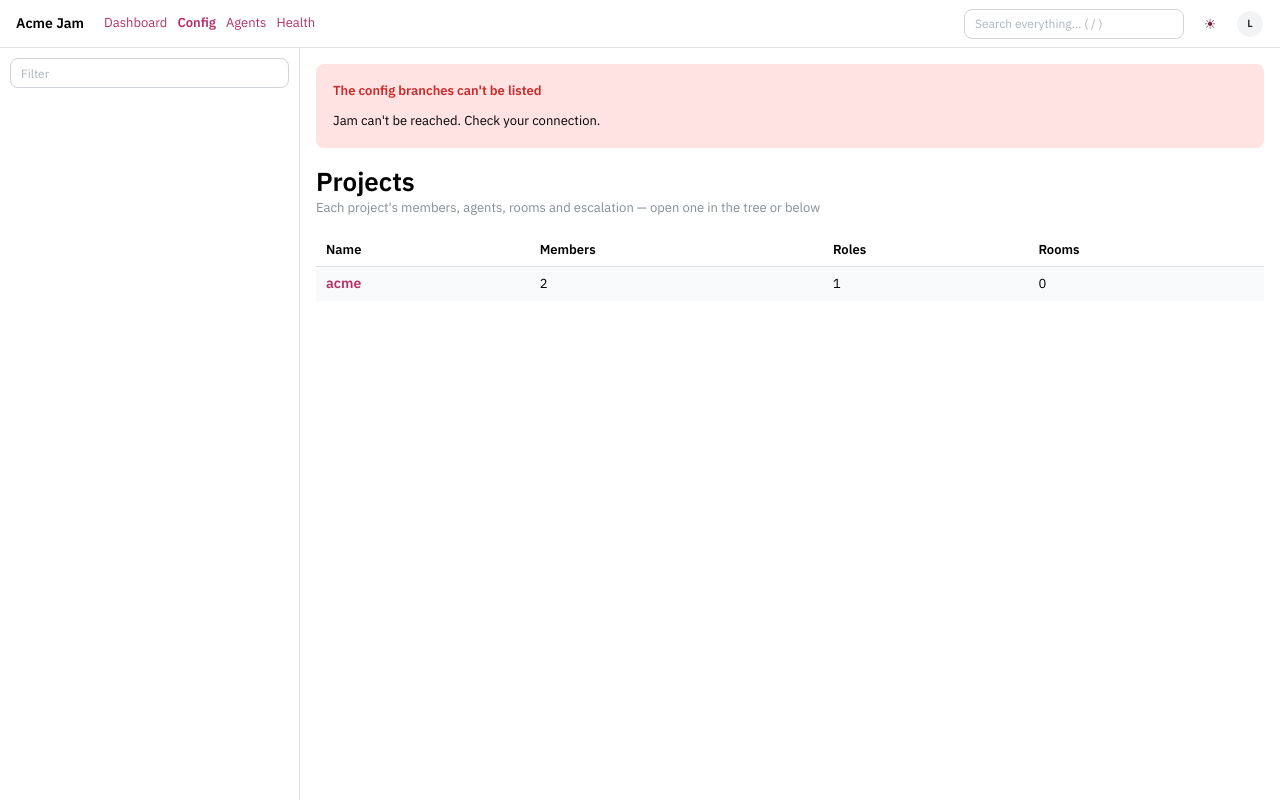
Test: outside a branch › the list offers no New project, and the overview no edits
Click the link "acme" at (344, 283), box [326,274,361,292]
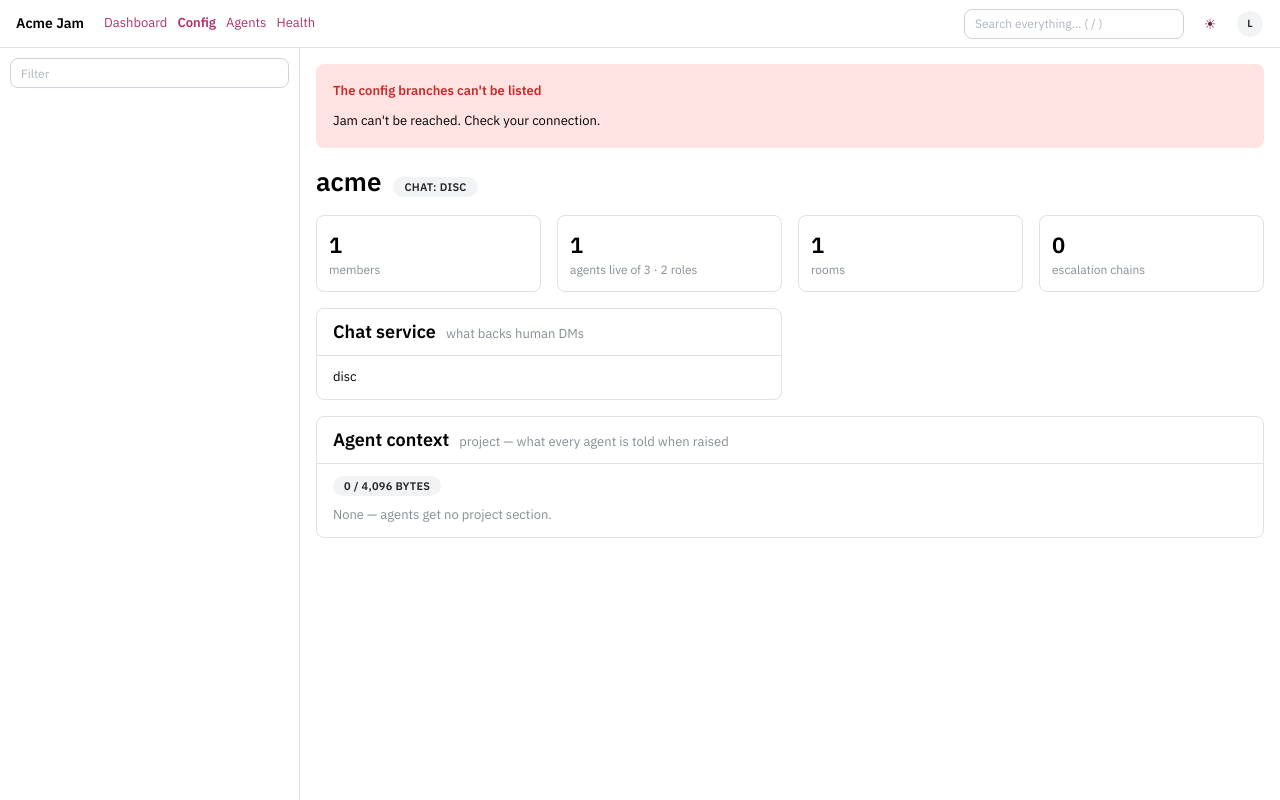
expect the heading "acme" is shown: met, box [316,164,382,199]
expect the text "chat: disc" is shown: met, box [404,178,467,196]
